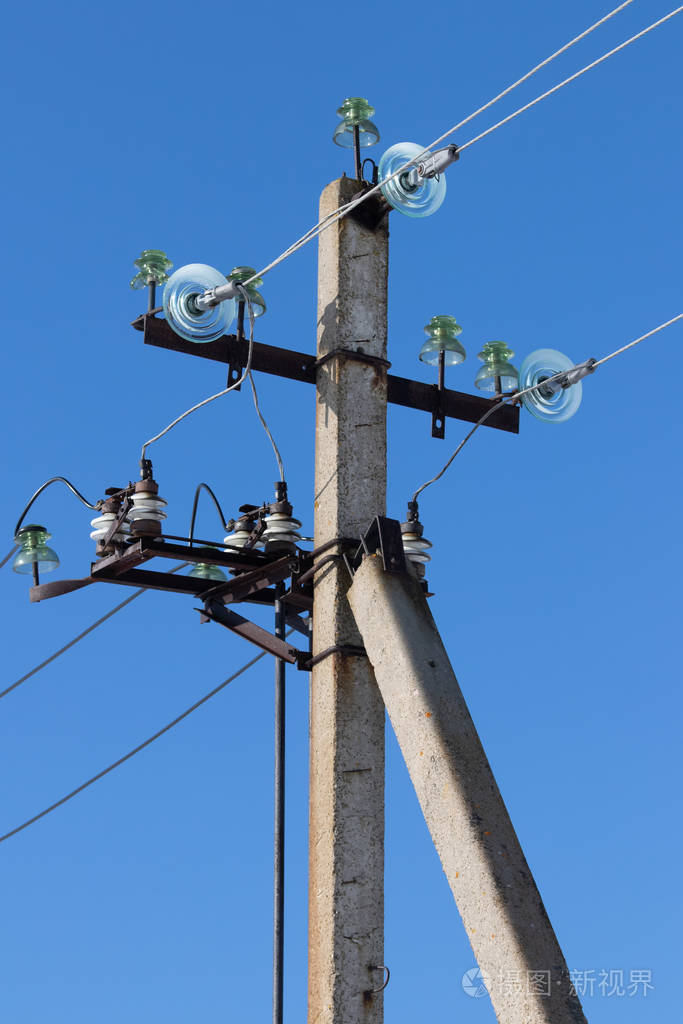insulator: (162, 256, 236, 347), (516, 347, 586, 425), (378, 142, 450, 217)
